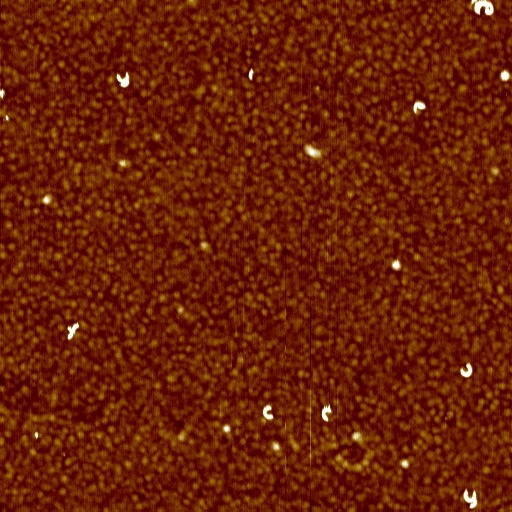-1: (299, 142, 326, 161), (63, 320, 82, 342), (498, 67, 511, 81), (390, 257, 403, 268), (42, 193, 53, 206), (247, 68, 256, 80), (32, 430, 42, 440)
1/4: (411, 97, 428, 117)
2/4: (463, 487, 480, 509), (115, 70, 131, 88), (459, 360, 474, 377), (320, 405, 333, 422), (263, 403, 273, 422)
3/4: (472, 1, 494, 18)
